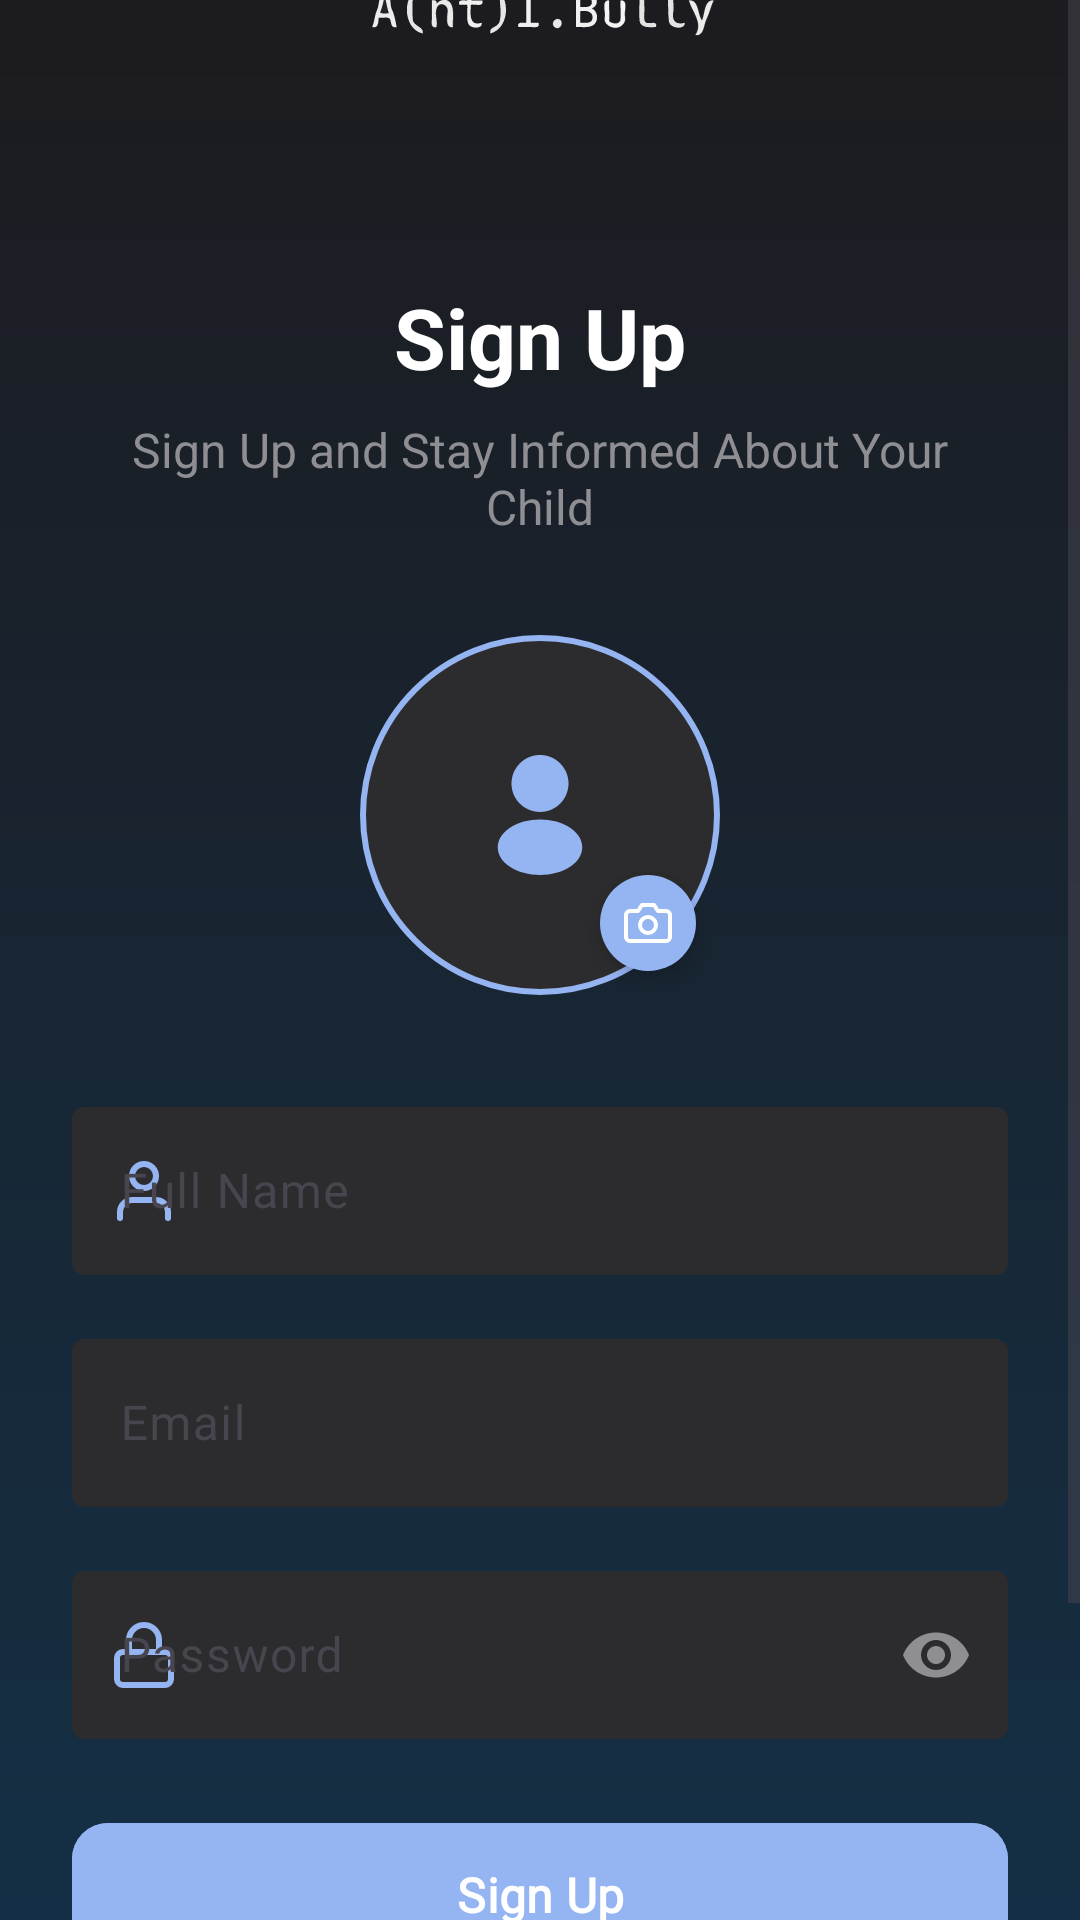

Icon bounding boxes for this 1080px x 1920px phone screenshot, format (x1=x1, y1=y1, x2=x2, y2=y2):
camera: (x1=576, y1=851, x2=717, y2=992)
profile: (x1=497, y1=755, x2=583, y2=875)
